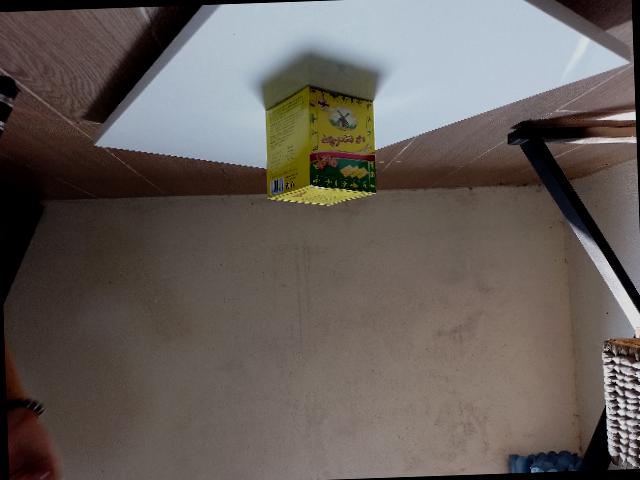luong_kho: (264, 83, 378, 204)
